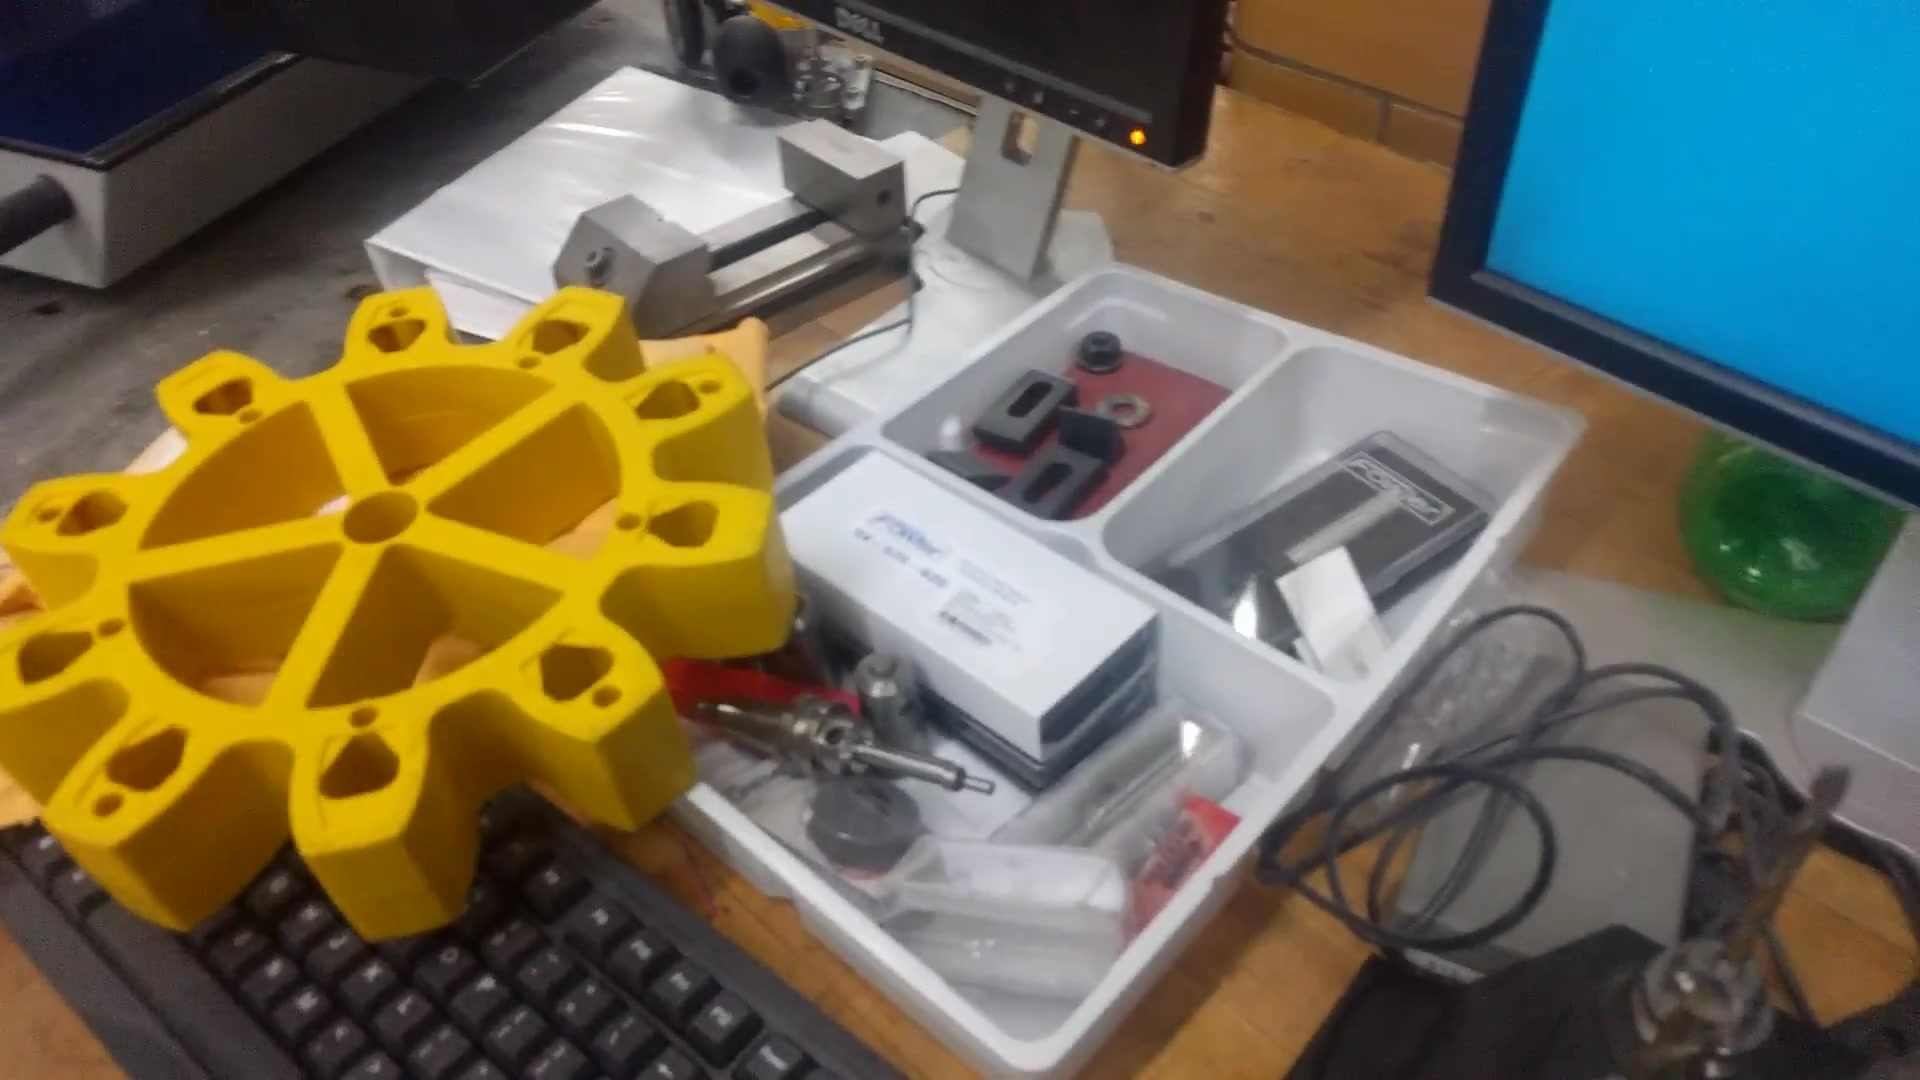gear: (1, 257, 825, 939)
